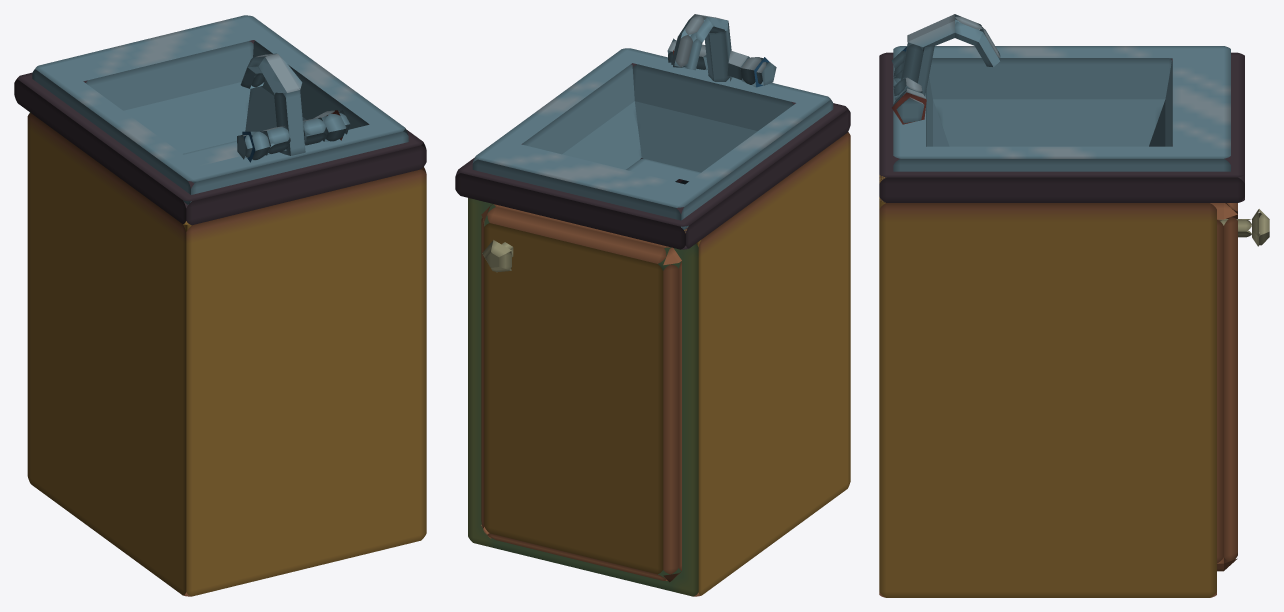
File: SinkCountertop.fbx
3 views of the same model, side by side, from view 1: azimuth 30°, elevation 25°; view 2: azimuth 150°, elevation 25°; view 3: azimuth 270°, elevation 25° (orthographic). The views are drawn at different scales.
Parts seen in each view (by area): view 1: main.001; view 2: main.001, beveled_cuboid.005; view 3: main.001, beveled_cuboid.005.
Boxes of the visible parts, x1,y1,x2,y2 form: main.001: (14,15,426,596); main.001: (455,14,850,596); beveled_cuboid.005: (481,204,681,582); main.001: (879,14,1244,597); beveled_cuboid.005: (1210,203,1269,571).
Bounding box in the file's own units: 62.86 × 122 × 83.07.
